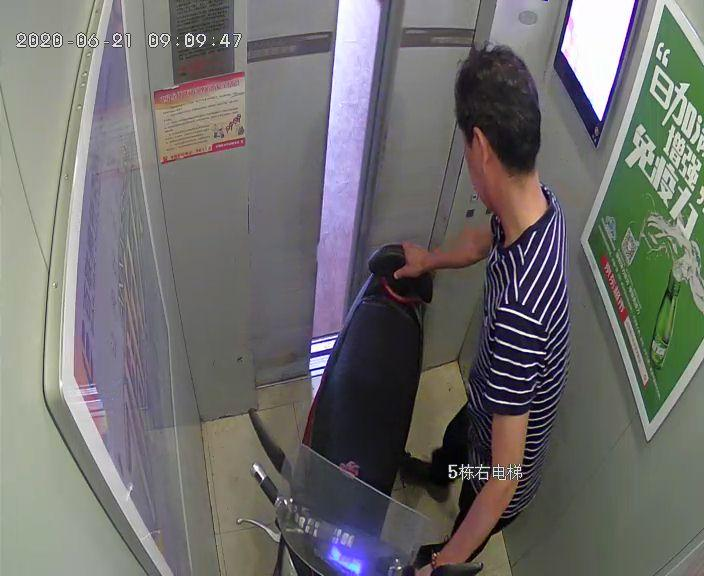Electric-bicycle: (232, 245, 476, 575)
